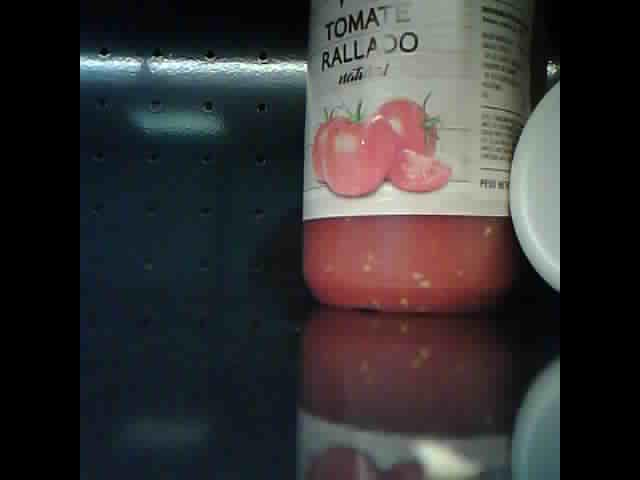tomate: (301, 4, 535, 310), (511, 78, 558, 300)
